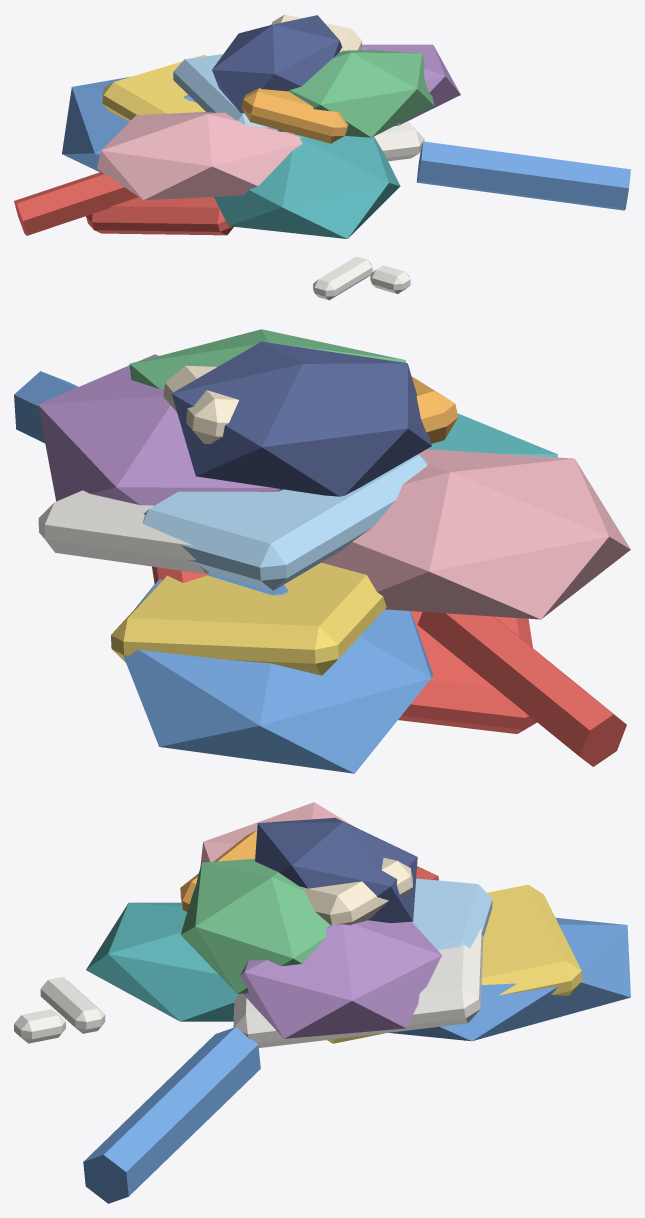
File: prop_laundry_pile_01.glb
The picture shows the model from 3 angles, top to bottom: view 1: azimuth 30°, elevation 25°; view 2: azimuth 150°, elevation 25°; view 3: azimuth 270°, elevation 25°; orthographic projection. The views are drawn at different scales.
Parts seen in each view (by area): view 1: prop_laundry_pile_01_body; view 2: prop_laundry_pile_01_body; view 3: prop_laundry_pile_01_body.
Boxes of the visible parts, x1,y1,x2,y2 form: prop_laundry_pile_01_body: (14,14,630,300); prop_laundry_pile_01_body: (14,329,630,773); prop_laundry_pile_01_body: (14,802,630,1203).
Size of the model in its own units: 0.8684 by 0.3074 by 0.7473.
